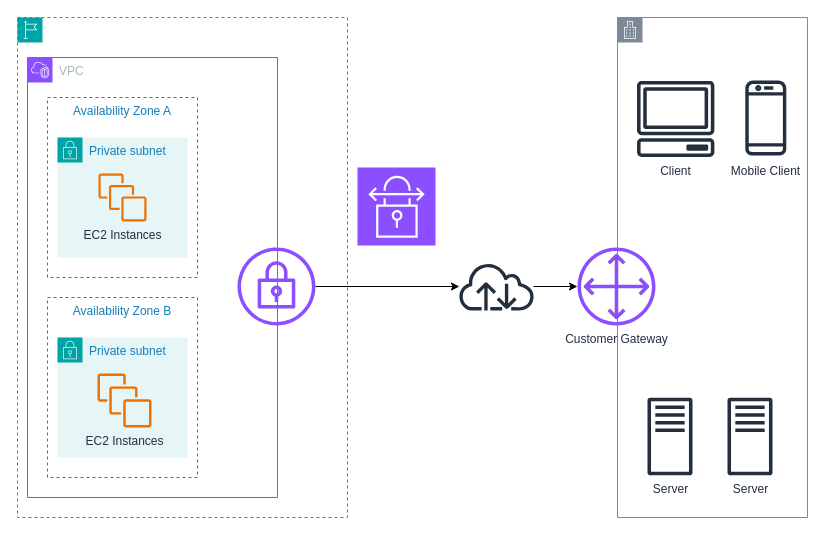
Some shapes in this 825 by 535 pixel diagram are drawn without their labels. Each missing label, with the box of its shape:
AWS Site-to-Site VPN: (356, 166, 436, 246)
Corporate data center: (616, 16, 808, 518)
Internet: (457, 262, 535, 310)
Region: (16, 16, 348, 518)
Virtual Private Gateway (VPN Gateway): (237, 247, 315, 325)
